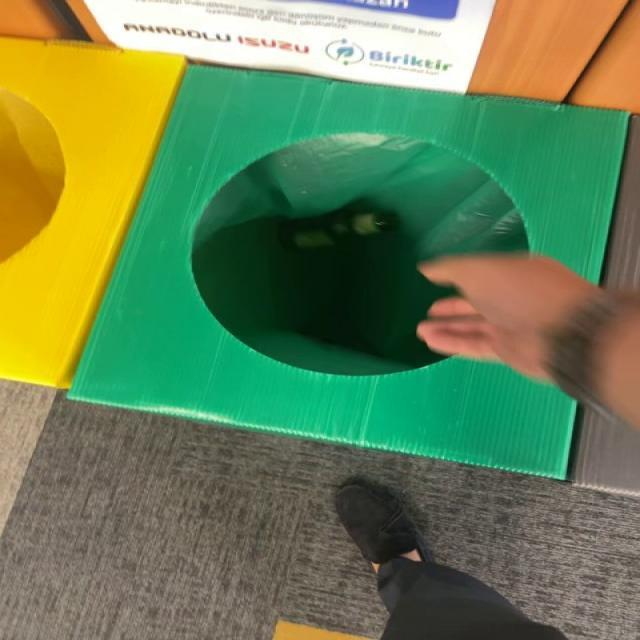Glass: (279, 208, 396, 250)
